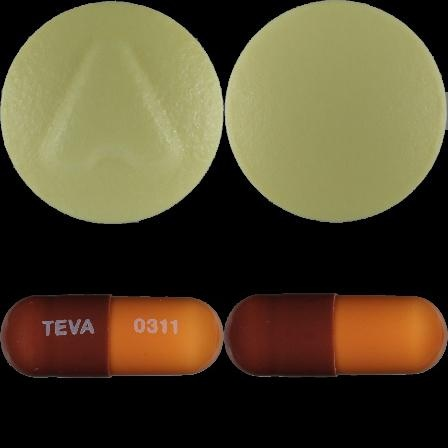61919-420: (0, 0, 224, 224)
